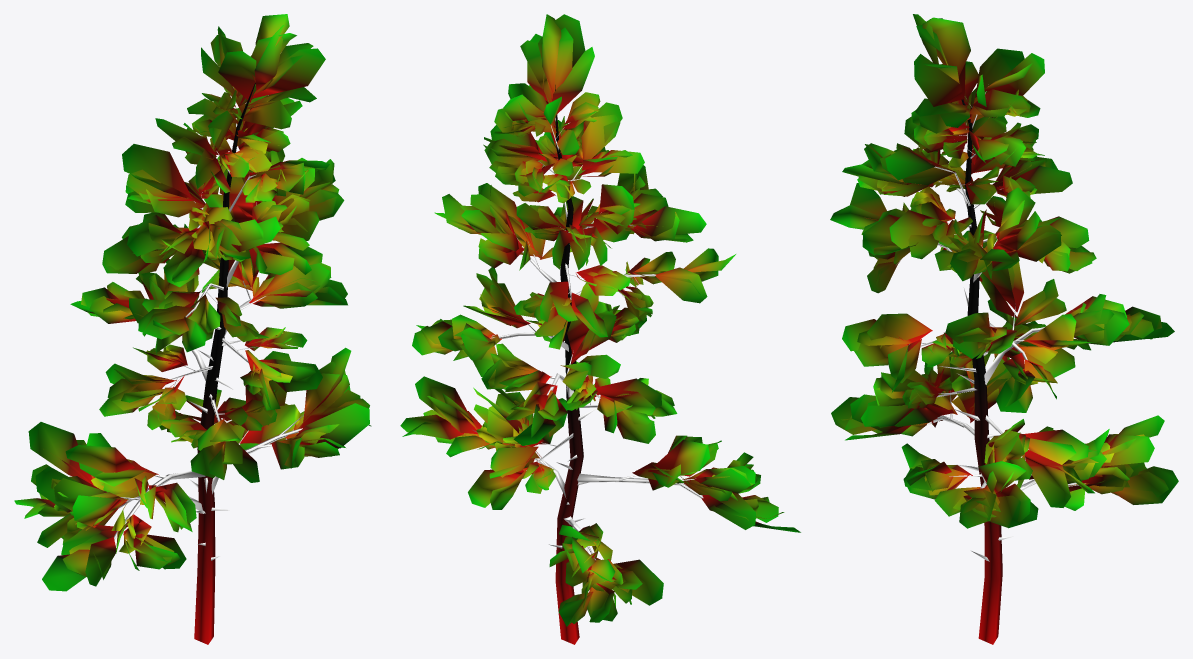
Rendered from Pine_4_LOD_2.fbx.
The picture shows the model from 3 angles, left to right: view 1: azimuth 30°, elevation 25°; view 2: azimuth 150°, elevation 25°; view 3: azimuth 270°, elevation 25°; orthographic projection. The views are drawn at different scales.
Parts seen in each view (by area): view 1: Pine_4_LOD_2; view 2: Pine_4_LOD_2; view 3: Pine_4_LOD_2.
Boxes of the visible parts, x1,y1,x2,y2 form: Pine_4_LOD_2: (14, 14, 371, 644); Pine_4_LOD_2: (400, 14, 800, 644); Pine_4_LOD_2: (830, 14, 1178, 644).
Size of the model in its own units: 9.88 by 16.43 by 7.99.
